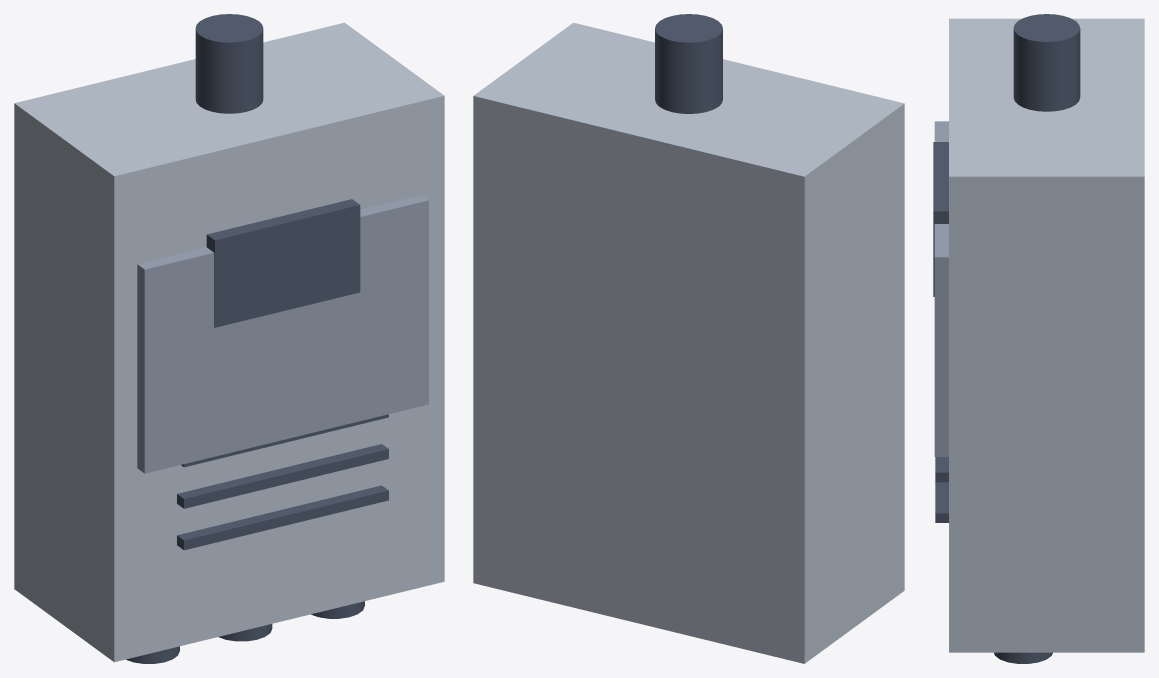
File: gaswaterheater-lite.glb
3 renders of one model, left to right at view 1: azimuth 30°, elevation 25°; view 2: azimuth 150°, elevation 25°; view 3: azimuth 270°, elevation 25°, orthographic. The views are drawn at different scales.
Parts seen in each view (by area): view 1: gaswaterheater; view 2: gaswaterheater; view 3: gaswaterheater.
Boxes of the visible parts, x1,y1,x2,y2 form: gaswaterheater: (14, 14, 444, 663); gaswaterheater: (473, 14, 904, 663); gaswaterheater: (933, 14, 1144, 663).
Size of the model in its own units: 0.42 by 0.72 by 0.2378.
